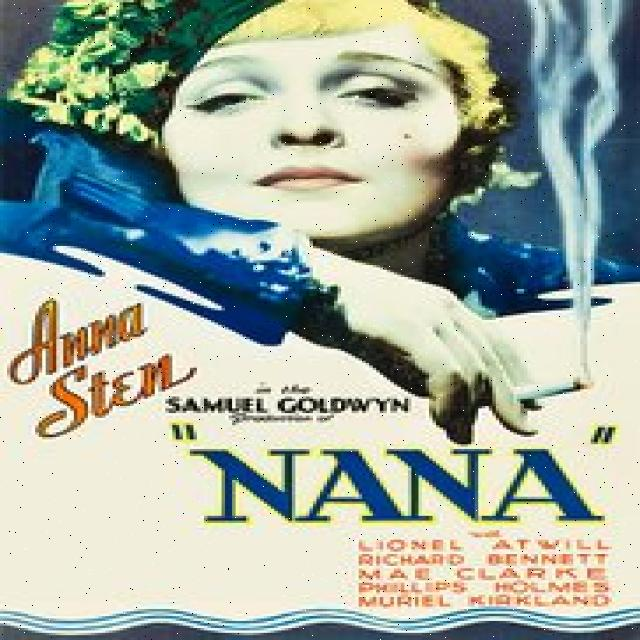movie-judul: (162, 416, 629, 534)
picture: (2, 1, 615, 439)
